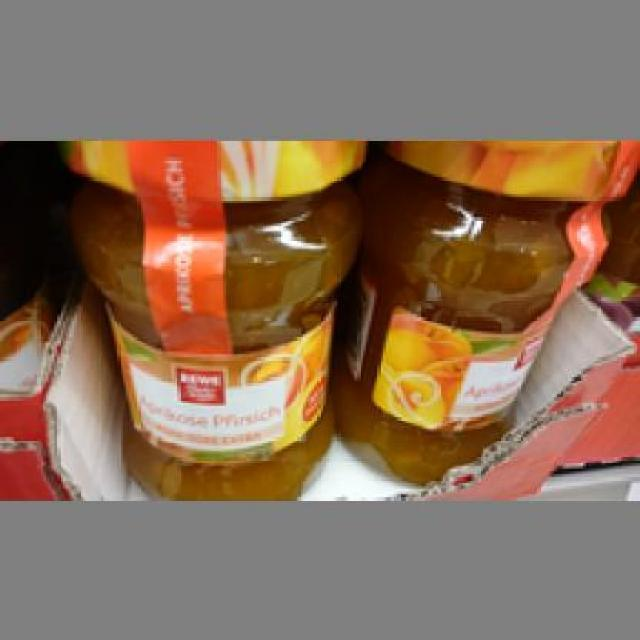Jam: (60, 137, 366, 497), (334, 137, 637, 483)
